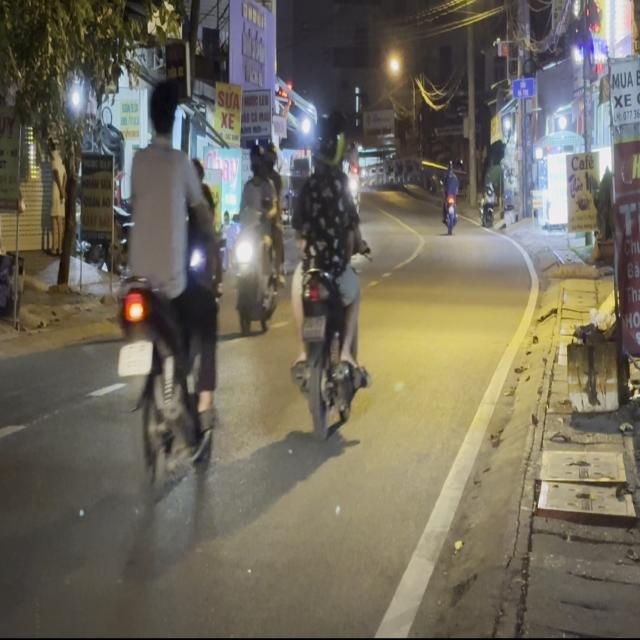helmet: (316, 119, 345, 167), (248, 133, 274, 178)
licenseplate: (111, 74, 224, 488), (287, 112, 370, 444)
motorcyclist: (146, 76, 179, 142)
nohelmet: (117, 340, 152, 374), (302, 315, 324, 340)
